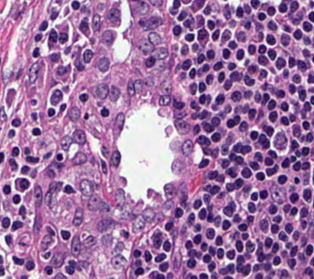nucleus: (80, 179, 93, 196), (138, 39, 153, 53), (175, 119, 189, 134), (274, 132, 286, 149), (133, 215, 145, 232), (114, 113, 124, 133), (88, 195, 100, 210), (29, 63, 38, 82), (71, 236, 80, 255), (153, 47, 167, 59), (97, 57, 109, 71), (96, 84, 108, 98), (73, 129, 85, 143), (115, 189, 124, 207), (73, 152, 86, 164), (98, 219, 111, 231), (160, 80, 171, 94), (50, 90, 61, 104), (73, 208, 82, 225), (109, 86, 119, 101), (148, 33, 160, 45), (102, 31, 113, 44), (68, 107, 79, 120), (182, 140, 192, 154), (164, 184, 174, 198), (34, 186, 41, 206), (111, 151, 120, 166), (143, 209, 154, 221), (83, 49, 93, 62), (61, 136, 71, 149), (45, 189, 53, 205), (179, 184, 186, 202), (159, 94, 170, 105), (127, 80, 135, 95), (42, 235, 52, 247), (83, 236, 94, 246), (197, 136, 210, 144), (34, 216, 40, 233), (231, 91, 241, 101), (19, 179, 29, 189), (98, 201, 108, 211), (223, 205, 233, 215), (145, 56, 154, 67), (173, 100, 184, 109), (266, 166, 277, 175), (49, 30, 57, 42), (260, 219, 268, 231), (276, 58, 285, 68), (244, 76, 254, 85), (222, 30, 230, 41), (230, 72, 241, 80), (174, 110, 185, 118), (134, 79, 141, 91), (154, 233, 160, 247), (236, 32, 245, 41), (266, 35, 275, 44), (204, 123, 213, 132), (198, 29, 206, 39), (75, 60, 83, 70), (226, 168, 236, 176), (12, 221, 22, 229), (246, 241, 254, 251), (262, 93, 269, 104), (9, 159, 16, 170), (103, 234, 110, 245), (59, 33, 67, 42), (258, 56, 267, 64), (182, 60, 190, 69), (56, 66, 65, 74), (216, 94, 224, 103), (190, 101, 198, 110), (199, 110, 207, 119), (264, 127, 273, 135), (233, 143, 241, 152), (26, 156, 38, 162), (199, 159, 208, 167), (242, 168, 250, 177), (64, 185, 73, 193), (210, 186, 219, 194), (222, 220, 230, 229), (206, 229, 214, 238), (61, 230, 69, 239), (212, 30, 219, 40), (268, 49, 275, 59), (101, 145, 108, 155), (2, 217, 9, 227), (190, 83, 196, 94), (101, 160, 106, 173), (185, 33, 193, 41), (214, 62, 222, 70), (248, 65, 256, 73), (211, 117, 219, 125), (12, 118, 20, 126), (239, 122, 247, 130), (212, 133, 220, 141), (256, 172, 264, 180), (278, 175, 286, 183), (115, 243, 123, 251), (248, 45, 255, 54), (207, 50, 214, 59), (197, 54, 204, 63), (224, 80, 231, 89), (268, 100, 275, 109), (269, 112, 276, 121), (241, 146, 250, 153), (208, 171, 217, 178), (235, 179, 242, 188), (203, 194, 210, 203), (248, 203, 255, 212), (175, 208, 182, 217), (163, 241, 170, 250), (237, 49, 243, 59), (249, 109, 255, 119), (199, 209, 205, 219), (188, 213, 194, 223), (214, 216, 220, 226), (236, 241, 242, 251), (51, 53, 58, 61), (146, 77, 153, 85), (276, 90, 284, 97), (199, 95, 206, 103), (101, 108, 108, 116), (227, 119, 234, 127), (250, 131, 257, 139), (259, 135, 266, 143), (262, 140, 269, 148), (250, 162, 258, 169), (47, 169, 54, 177), (226, 183, 234, 190), (3, 185, 10, 193), (260, 190, 267, 198), (13, 195, 20, 203), (194, 200, 201, 208), (269, 205, 276, 213), (165, 222, 172, 230), (271, 224, 278, 232), (46, 227, 54, 234), (181, 45, 187, 54), (223, 49, 229, 58), (218, 72, 224, 81), (199, 82, 205, 91), (222, 145, 228, 154), (194, 234, 200, 243), (5, 235, 11, 244), (265, 238, 271, 247), (229, 41, 236, 48), (244, 91, 251, 98), (80, 94, 87, 101), (235, 156, 242, 163), (265, 158, 272, 165), (222, 160, 229, 167), (21, 166, 28, 173), (185, 241, 192, 248), (259, 45, 265, 53), (189, 69, 195, 77), (206, 75, 212, 83), (1, 108, 5, 120), (48, 108, 54, 116), (233, 116, 239, 124), (32, 128, 40, 134), (12, 147, 18, 155), (273, 216, 281, 222), (238, 224, 246, 230), (216, 236, 222, 244), (33, 48, 38, 57), (255, 92, 260, 101), (212, 148, 217, 157), (35, 34, 41, 41), (228, 63, 235, 69), (260, 70, 266, 77), (203, 148, 210, 154), (269, 151, 276, 157), (255, 153, 261, 160), (251, 193, 257, 200), (233, 215, 240, 221), (194, 125, 199, 133), (19, 206, 24, 214), (207, 213, 212, 221), (202, 65, 208, 71), (56, 154, 62, 160), (217, 175, 223, 181), (192, 44, 197, 51), (225, 105, 230, 112), (242, 105, 247, 112), (65, 47, 70, 53), (60, 104, 65, 110), (9, 130, 14, 136), (230, 153, 235, 159), (248, 216, 253, 222), (122, 231, 127, 237), (0, 152, 3, 161), (192, 113, 197, 118), (24, 148, 29, 153), (195, 225, 200, 230), (242, 233, 247, 238), (258, 33, 262, 39), (32, 113, 36, 119), (45, 153, 50, 157), (31, 100, 35, 104), (205, 186, 210, 189)
